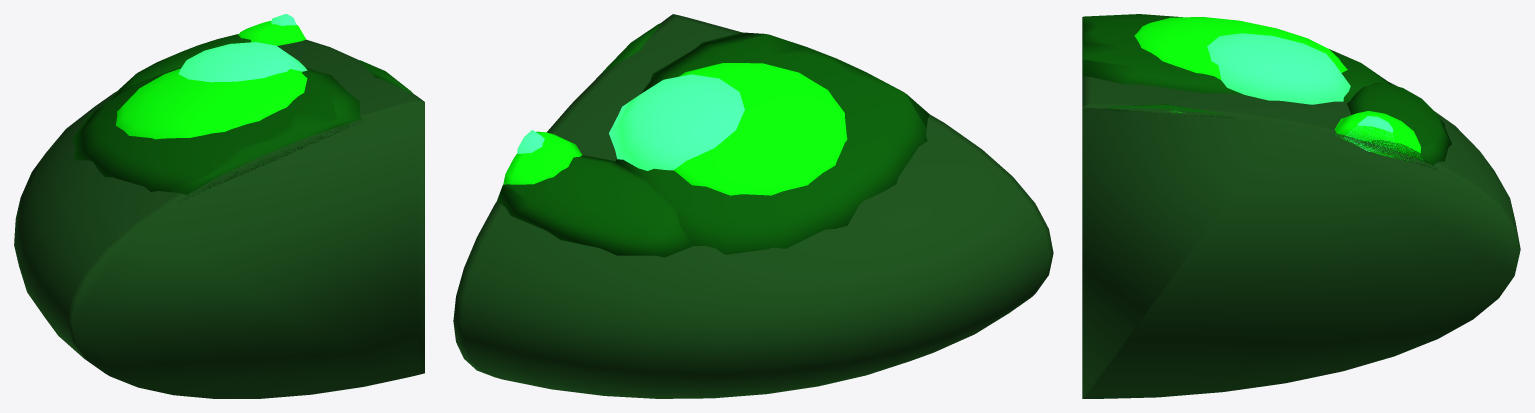
Rendered from newshu-91-f2.glb.
The picture shows the model from 3 angles, left to right: view 1: azimuth 30°, elevation 25°; view 2: azimuth 150°, elevation 25°; view 3: azimuth 270°, elevation 25°; orthographic projection. The views are drawn at different scales.
Visible parts, largest first — view 1: newshu-91-f2; view 2: newshu-91-f2; view 3: newshu-91-f2.
Boxes of the visible parts, x1=… form: newshu-91-f2: x1=14, y1=14, x2=424, y2=398; newshu-91-f2: x1=453, y1=14, x2=1053, y2=398; newshu-91-f2: x1=1082, y1=14, x2=1520, y2=398.
Size of the model in its own units: 1.96 by 1.5 by 1.96.
